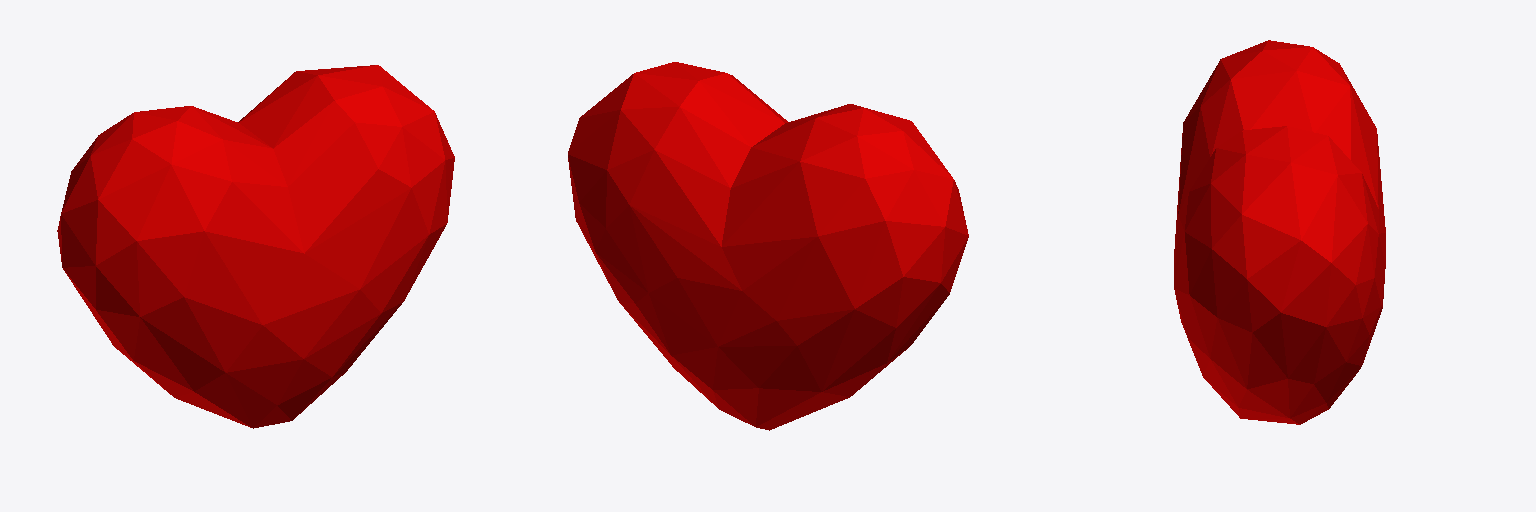
The model's file is life.obj.
3 views of the same model, side by side, from view 1: azimuth 30°, elevation 25°; view 2: azimuth 150°, elevation 25°; view 3: azimuth 270°, elevation 25° (orthographic).
Visible parts, largest first — view 1: Love; view 2: Love; view 3: Love.
Part boxes in pixels (left/top/right/bottom): Love: left=57, top=65, right=454, bottom=428; Love: left=568, top=62, right=968, bottom=430; Love: left=1174, top=40, right=1385, bottom=424.
Bounding box in the file's own units: 80.33 × 67.16 × 39.58.